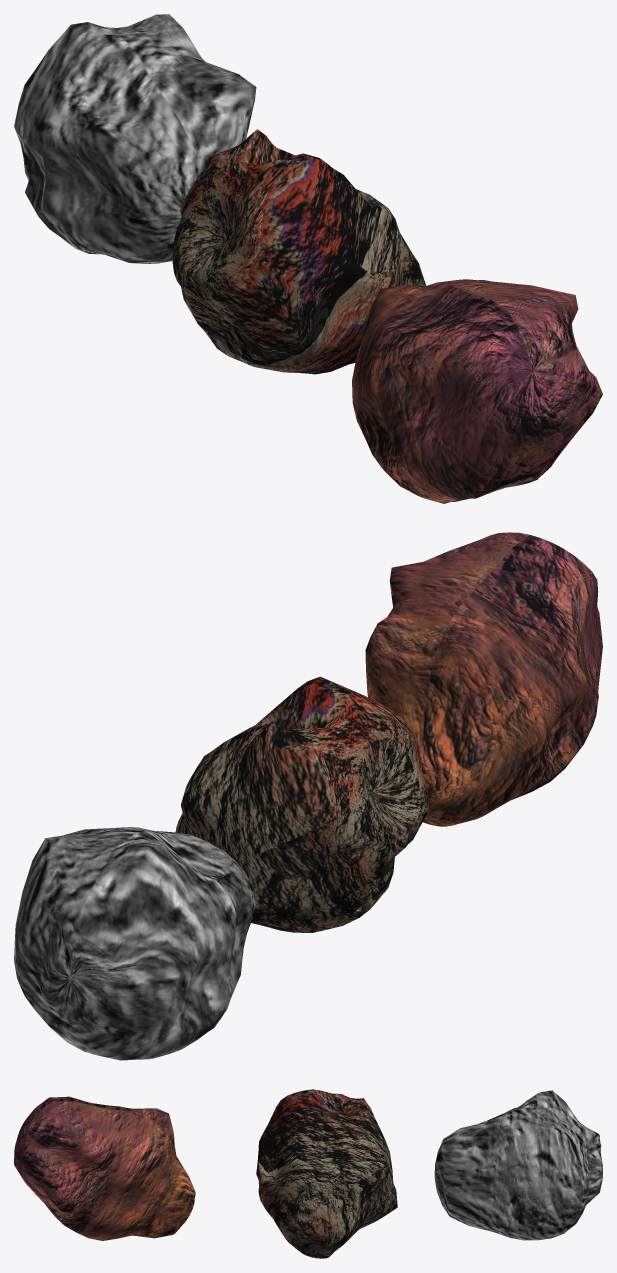
File: meteor break.FBX
3 renders of one model, top to bottom at view 1: azimuth 30°, elevation 25°; view 2: azimuth 150°, elevation 25°; view 3: azimuth 270°, elevation 25°, orthographic. The views are drawn at different scales.
Parts seen in each view (by area): view 1: Sphere001, Sphere003, Sphere002; view 2: Sphere001, Sphere003, Sphere002; view 3: Sphere001, Sphere003, Sphere002.
Boxes of the visible parts, x1=… form: Sphere001: x1=352, y1=279, x2=602, y2=503; Sphere003: x1=14, y1=14, x2=256, y2=263; Sphere002: x1=172, y1=129, x2=426, y2=374; Sphere001: x1=365, y1=532, x2=602, y2=826; Sphere003: x1=14, y1=827, x2=255, y2=1060; Sphere002: x1=175, y1=676, x2=429, y2=932; Sphere001: x1=14, y1=1096, x2=195, y2=1240; Sphere003: x1=434, y1=1090, x2=602, y2=1240; Sphere002: x1=256, y1=1089, x2=397, y2=1258.
Bounding box in the file's own units: 93.98 × 89.42 × 345.
3 materials, 3 textured.
